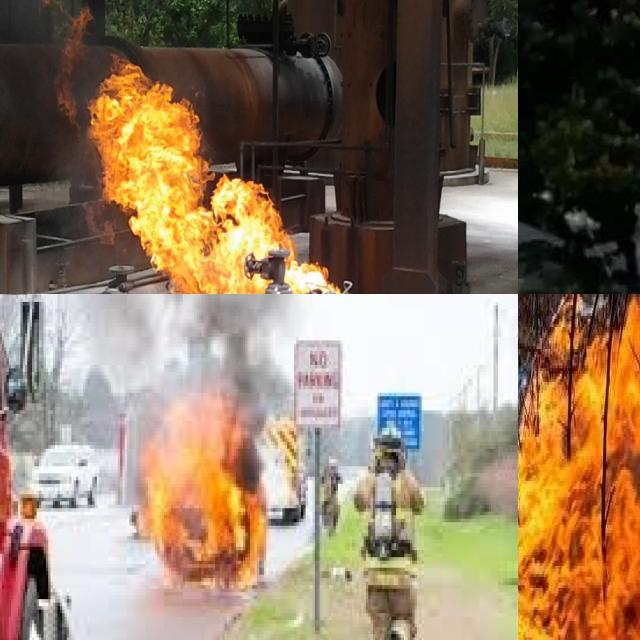fire: (51, 0, 347, 294), (518, 294, 640, 640), (125, 379, 289, 613)
smoke: (73, 294, 333, 407), (0, 0, 85, 259)
